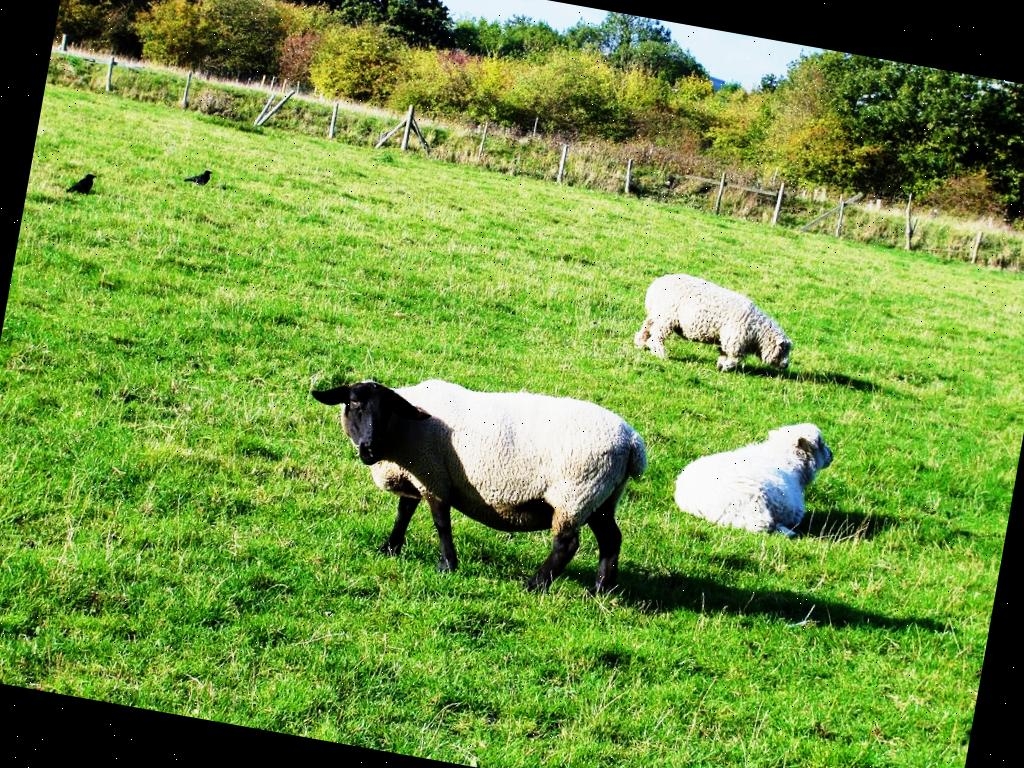Sheep: (282, 352, 658, 606), (668, 403, 842, 548), (632, 270, 804, 384)
